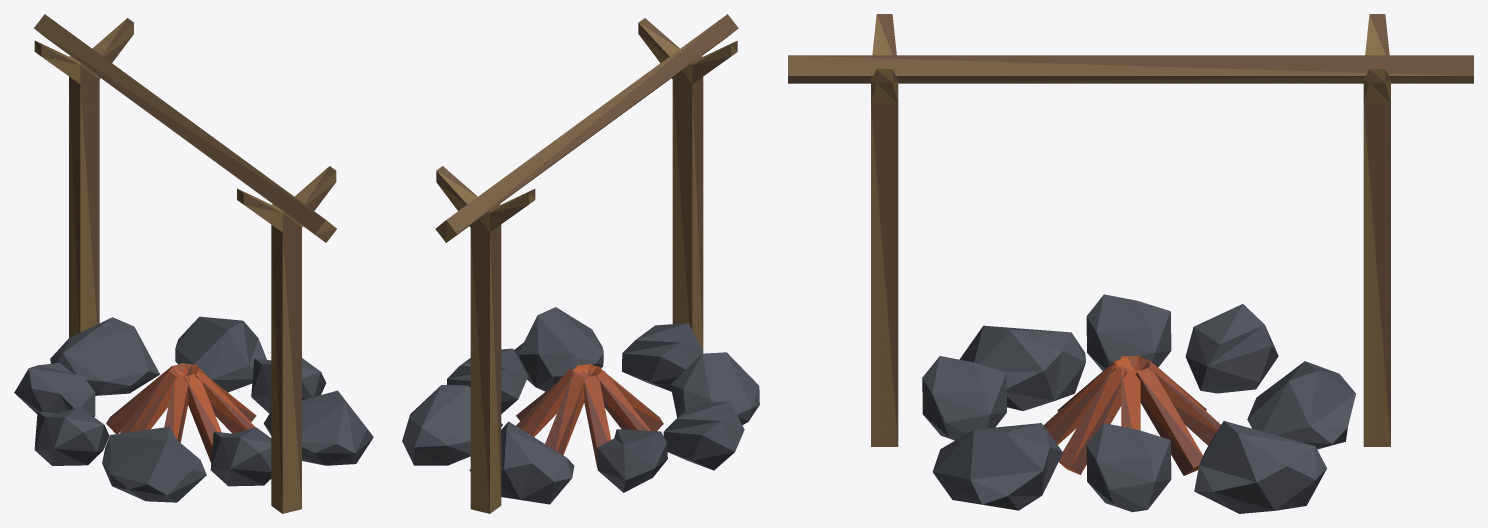
The model's file is Campfire.fbx.
The picture shows the model from 3 angles, left to right: view 1: azimuth 30°, elevation 25°; view 2: azimuth 150°, elevation 25°; view 3: azimuth 270°, elevation 25°; orthographic projection. The views are drawn at different scales.
Visible parts, largest first — view 1: polySurface551; view 2: polySurface551; view 3: polySurface551.
Boxes of the visible parts, x1=… form: polySurface551: x1=14, y1=14, x2=373, y2=513; polySurface551: x1=402, y1=14, x2=759, y2=513; polySurface551: x1=788, y1=14, x2=1473, y2=513.
Bounding box in the file's own units: 242 × 273 × 418.
